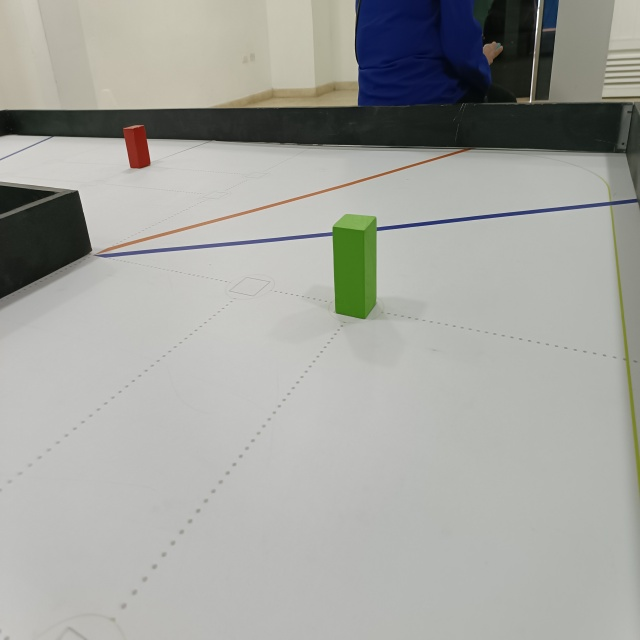blue line: (94, 190, 640, 258)
green rectangular prism: (326, 211, 382, 321)
orange line: (90, 139, 471, 255)
red rectangular prism: (120, 121, 150, 172)
